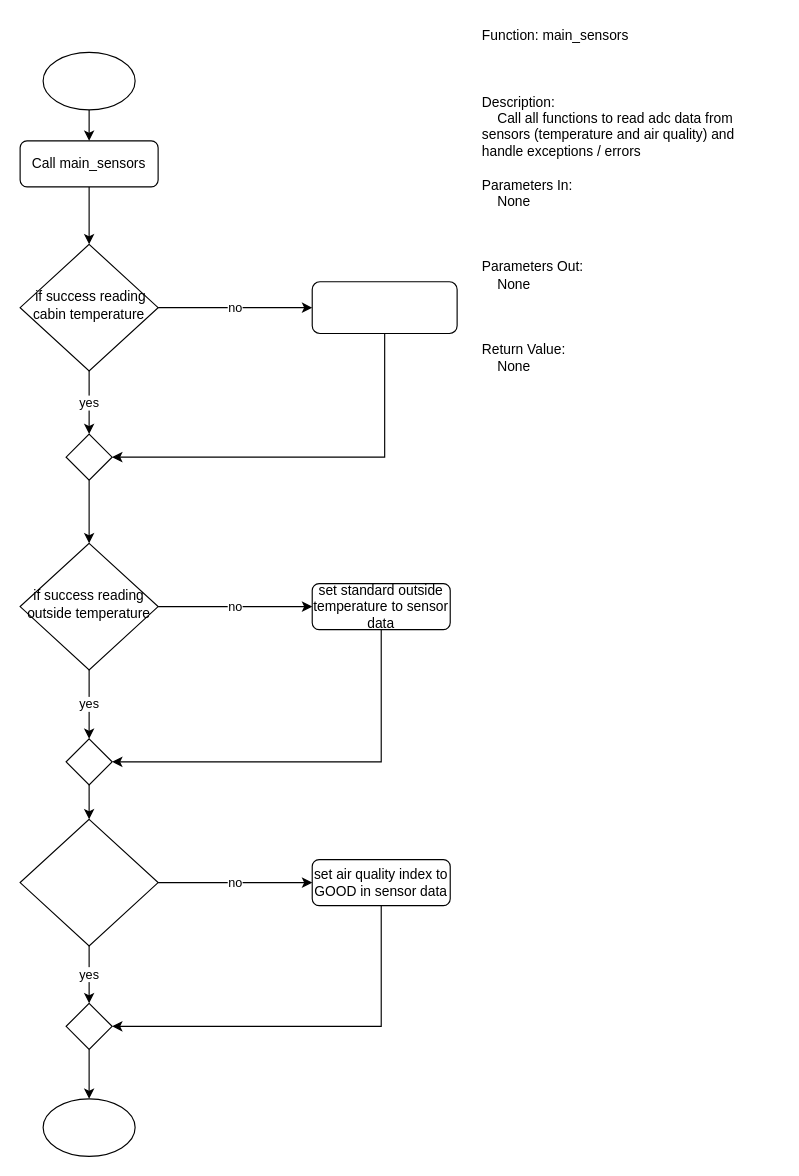
Some shapes in this 799 by 1176 pixel diagram are drawn without their labels. Each missing label, with the centre of its shape:
if success reading air quality sensor: (88,882)
set standard temperature to sensor data: (384,307)
